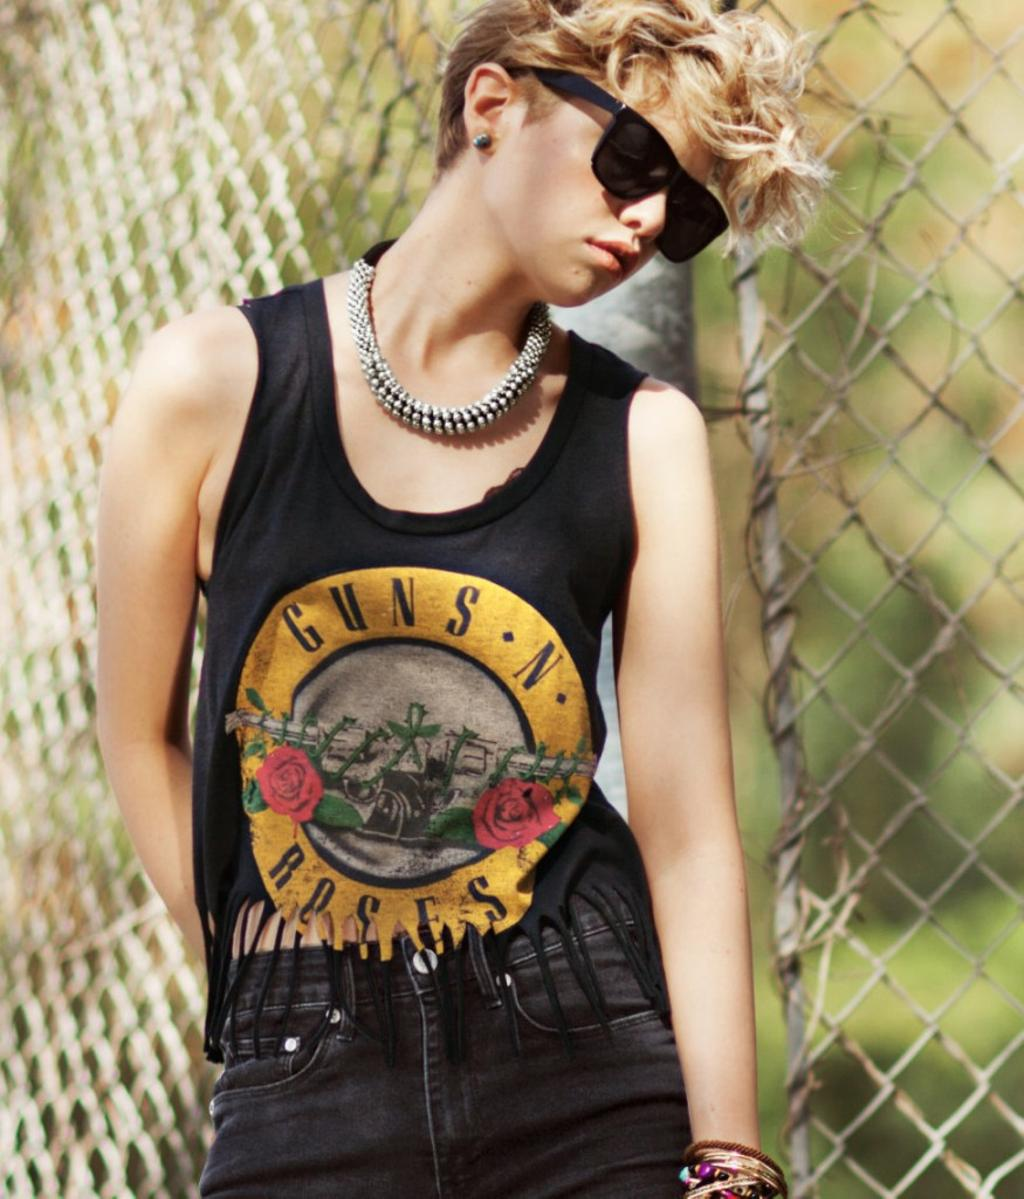face: (520, 50, 740, 312)
